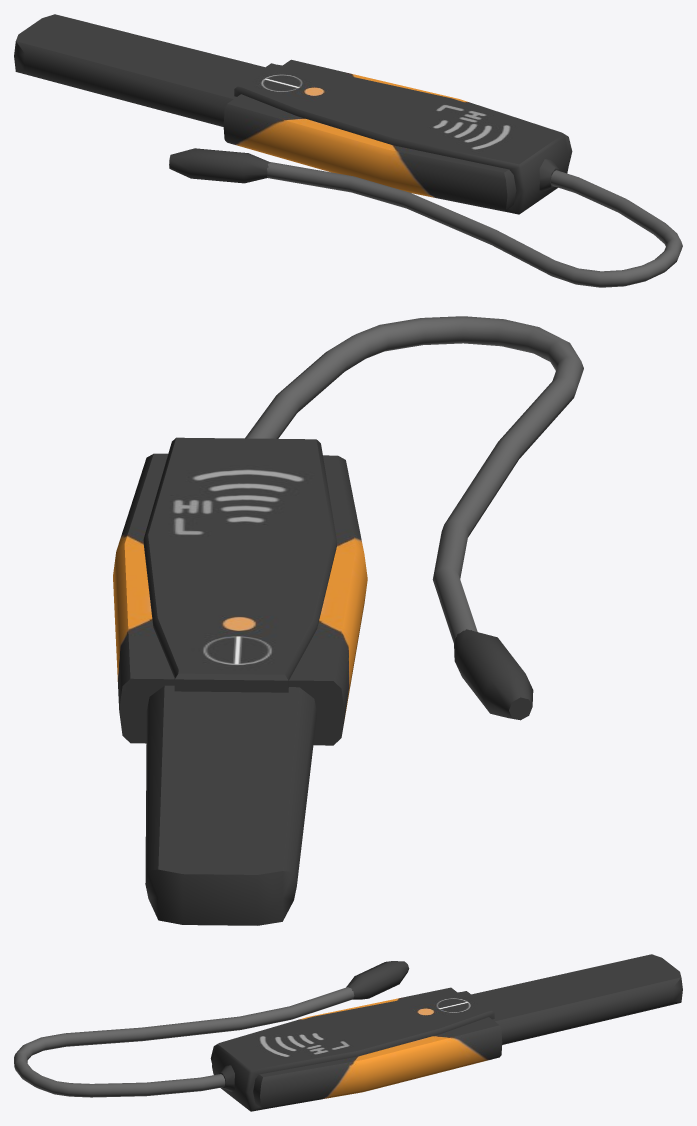
Rendered from tool_leak_detector.glb.
3 renders of one model, top to bottom at view 1: azimuth 30°, elevation 25°; view 2: azimuth 150°, elevation 25°; view 3: azimuth 270°, elevation 25°, orthographic. The views are drawn at different scales.
Visible parts, largest first — view 1: tool_leak_detector; view 2: tool_leak_detector; view 3: tool_leak_detector.
Boxes of the visible parts, x1,y1,x2,y2 form: tool_leak_detector: (14, 14, 682, 287); tool_leak_detector: (113, 316, 583, 925); tool_leak_detector: (14, 954, 682, 1111).
Bounding box in the file's own units: 0.1591 × 0.0238 × 0.3461.
Materials: 1 (1 with a texture image).
